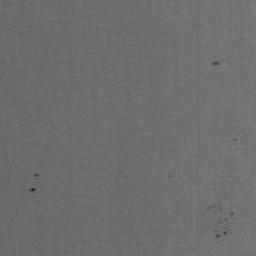Inclusion: (216, 231, 228, 238)
